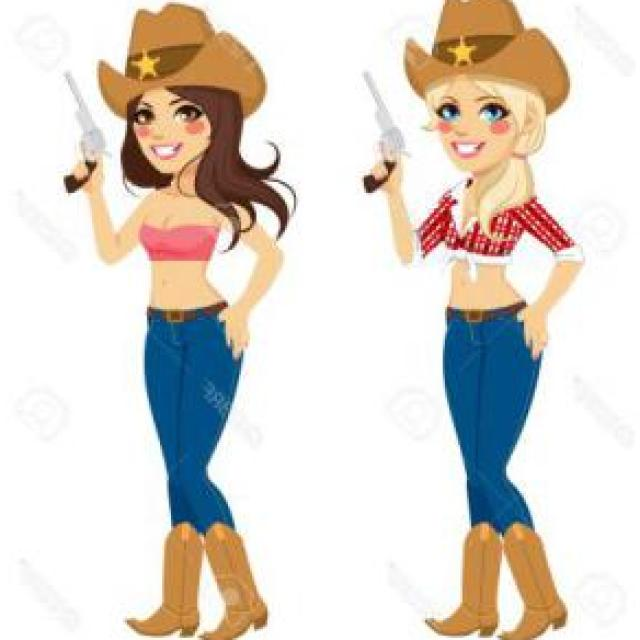pistol: (360, 72, 408, 195), (65, 72, 112, 195)
